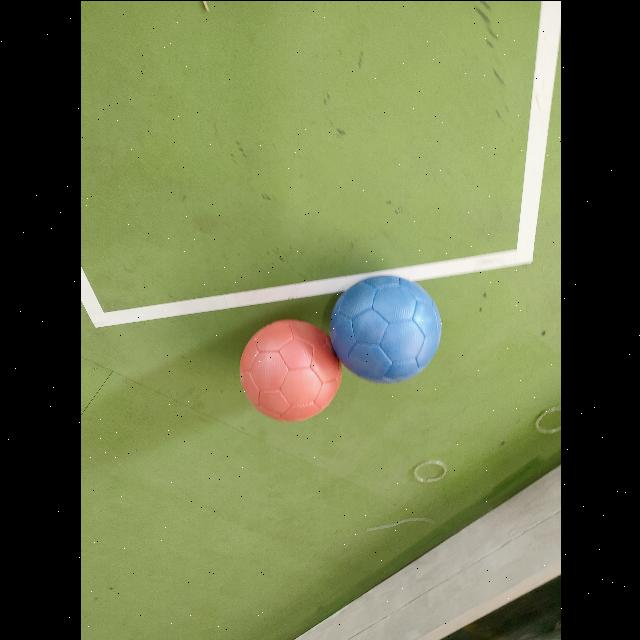B: (330, 275, 440, 383)
R: (239, 319, 340, 421)
